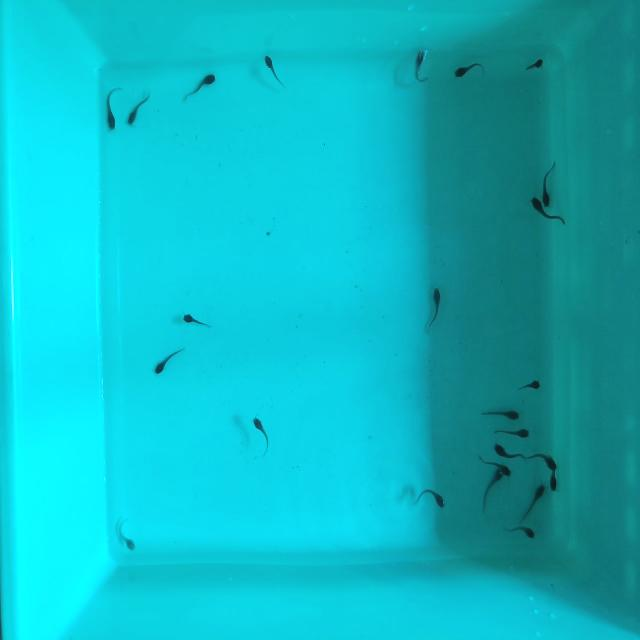lele: (527, 191, 565, 232), (519, 477, 547, 525), (181, 69, 219, 104), (151, 342, 186, 378), (477, 466, 505, 511), (538, 155, 559, 209), (520, 445, 559, 473), (475, 450, 514, 478), (124, 90, 151, 129), (501, 517, 540, 541), (261, 51, 286, 88), (426, 284, 444, 333), (450, 56, 485, 81), (249, 413, 272, 451), (114, 522, 138, 553), (410, 47, 429, 86), (180, 309, 210, 331), (490, 441, 523, 461), (413, 488, 444, 509), (105, 83, 118, 132), (479, 408, 520, 423), (494, 426, 531, 440), (523, 56, 547, 74), (514, 377, 542, 392), (549, 464, 559, 496)
